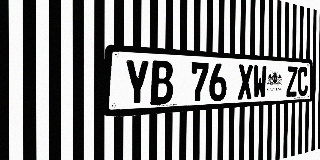6: (209, 63, 227, 102)
7: (190, 62, 209, 103)
B: (150, 60, 173, 105)
C: (297, 67, 308, 96)
W: (253, 65, 267, 99)
X: (238, 64, 253, 100)
Y: (124, 59, 150, 107)
Z: (286, 66, 297, 97)
